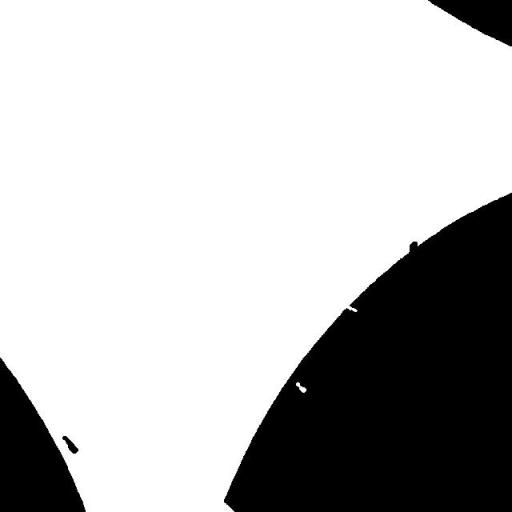copper: (54, 428, 86, 461)
mousebite: (336, 295, 365, 319)
pin-hole: (288, 374, 314, 400)
spur: (402, 234, 424, 260)
